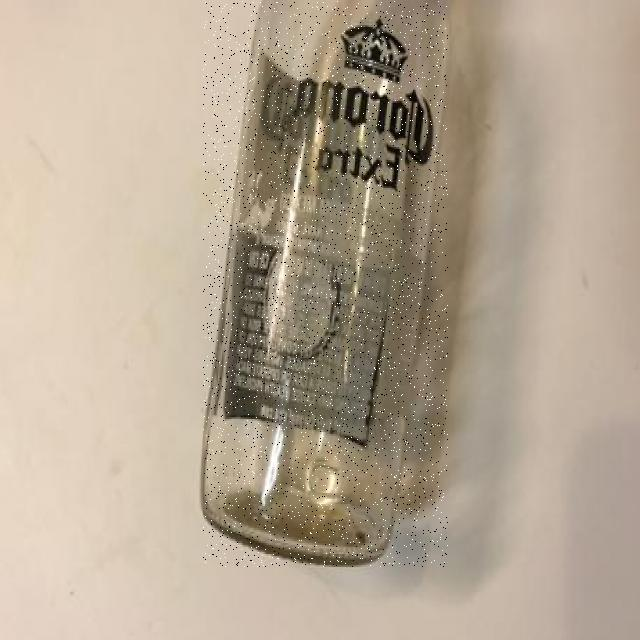glass: (203, 1, 448, 566)
